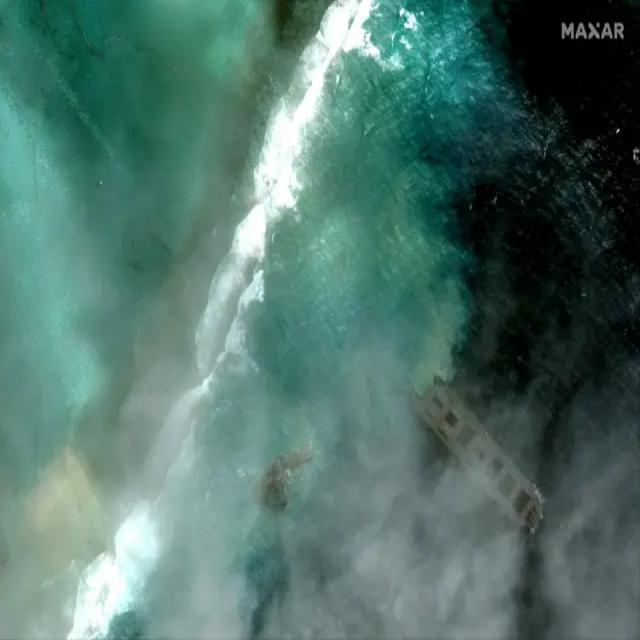oil spill: (116, 110, 267, 407)
